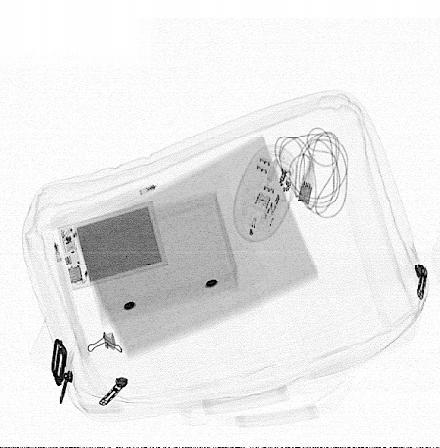Powerbank: (55, 200, 169, 292)
